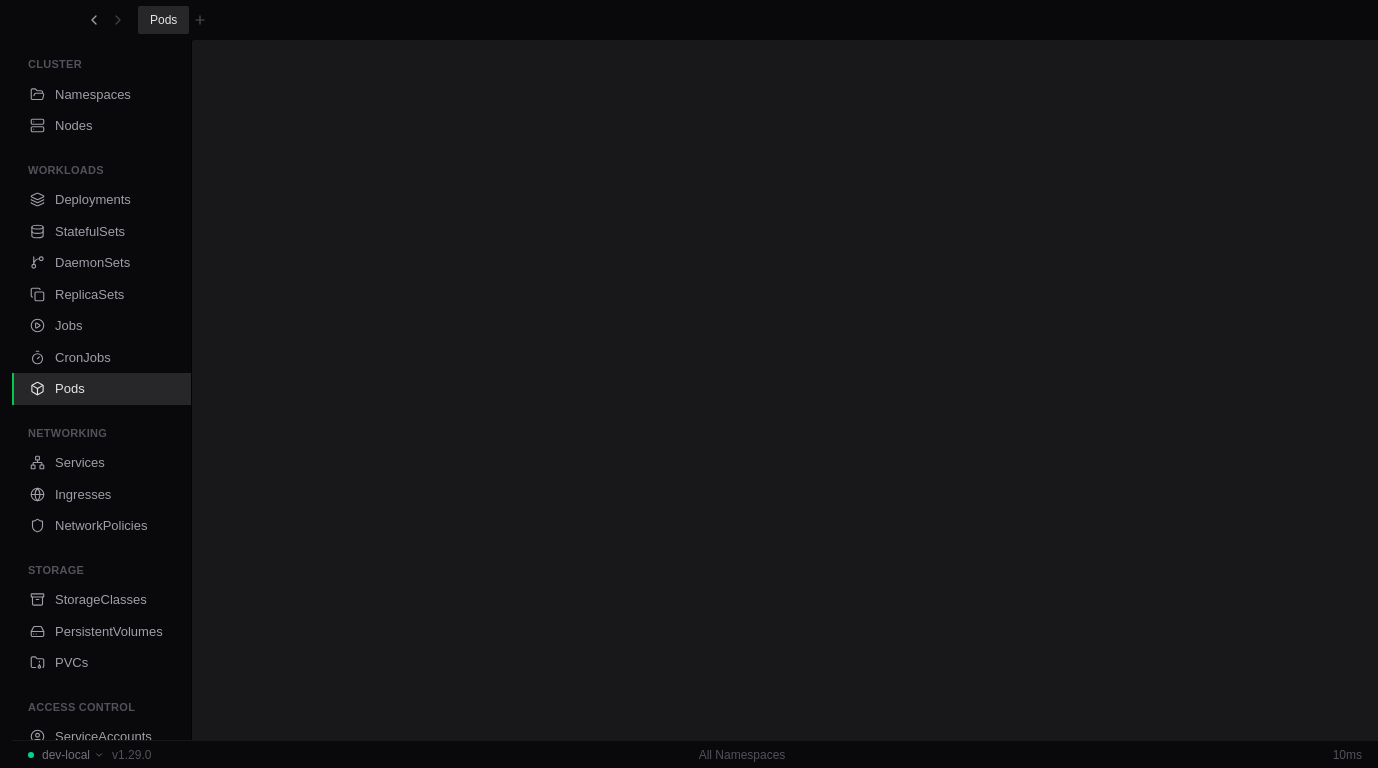
Test: IngressDetailView › displays events
Click the button "Ingresses". click: (102, 494)
box: x1=12 y1=478 x2=191 y2=510
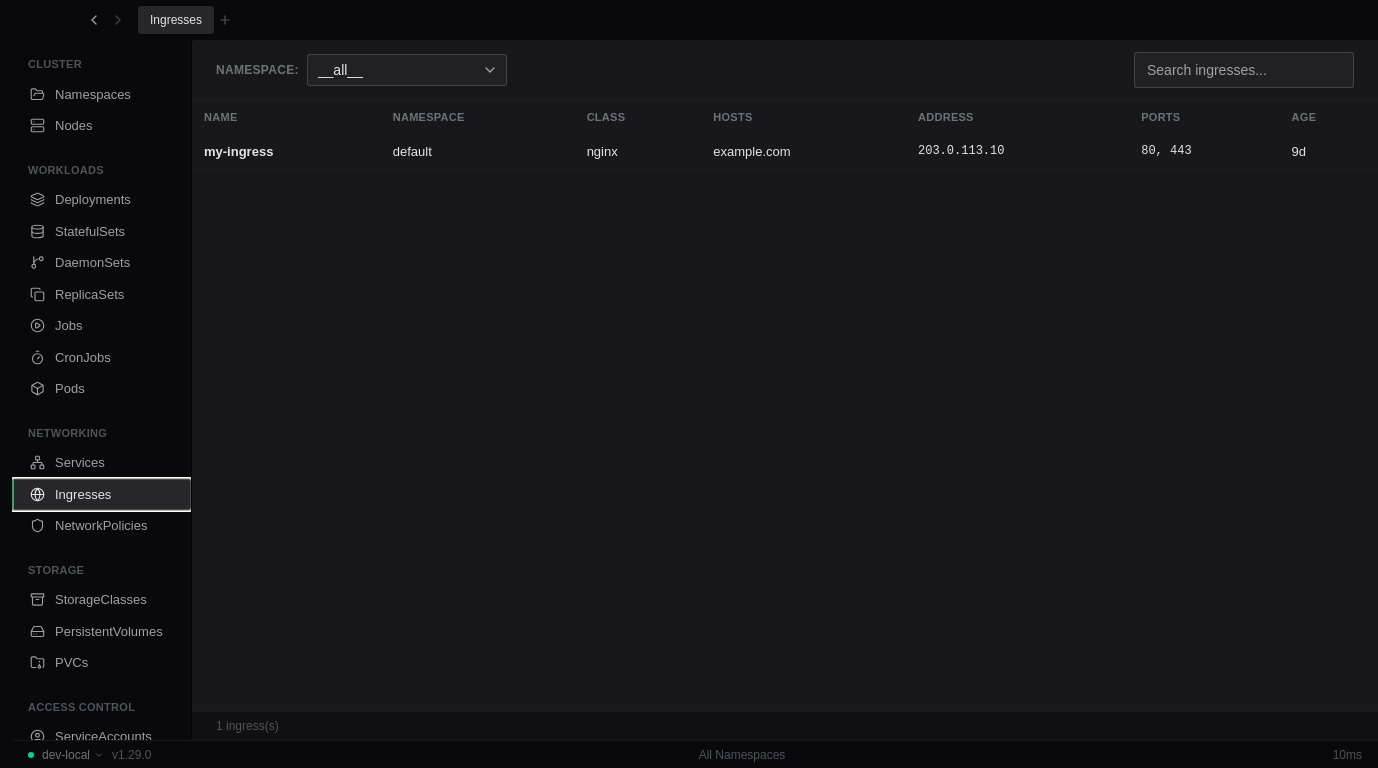
Expected: the text "my-ingress" is shown
Click the text "my-ingress". click: (286, 152)
box: x1=192 y1=134 x2=381 y2=170
(page scrolled)
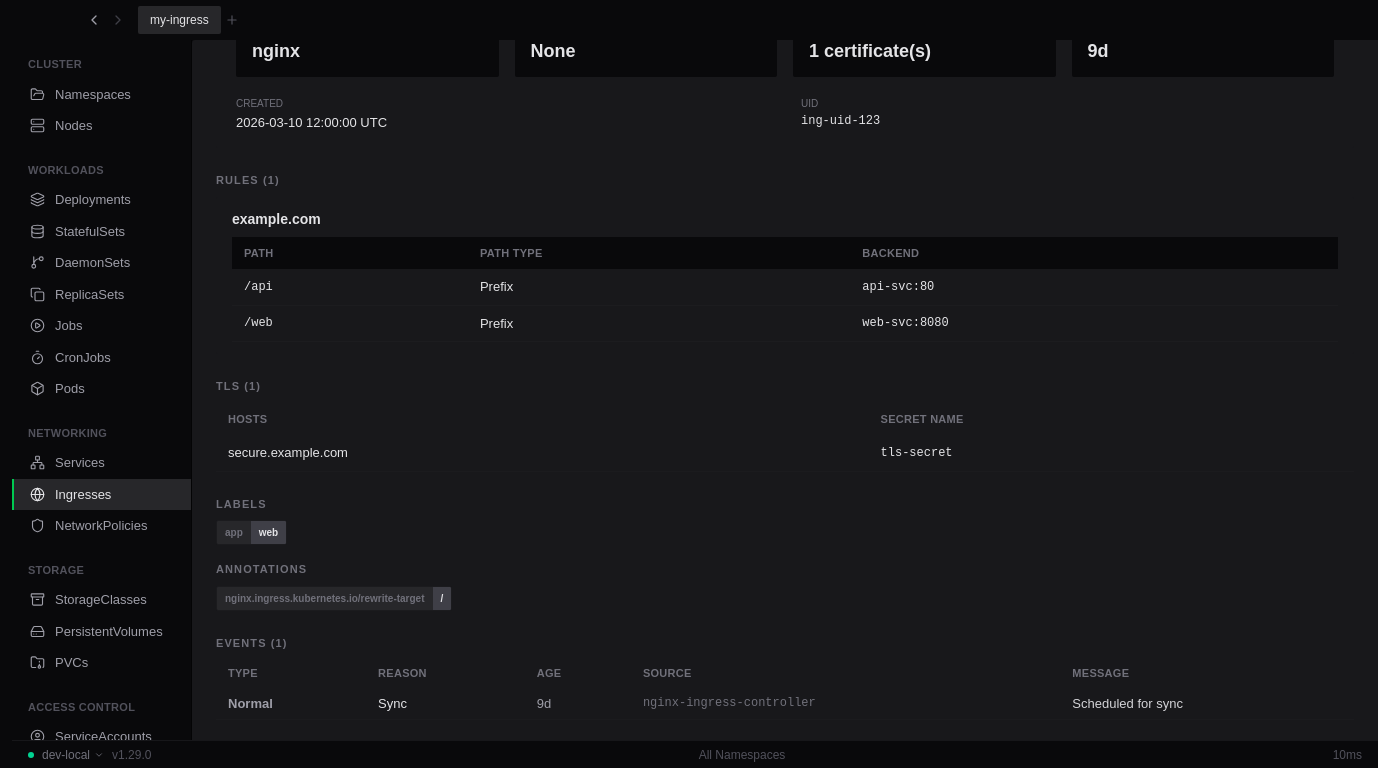
Expected: the heading "Events (1)" is shown, x1=216 y1=636 x2=288 y2=648
Expected: the text "Sync" is shown, x1=366 y1=688 x2=525 y2=720
